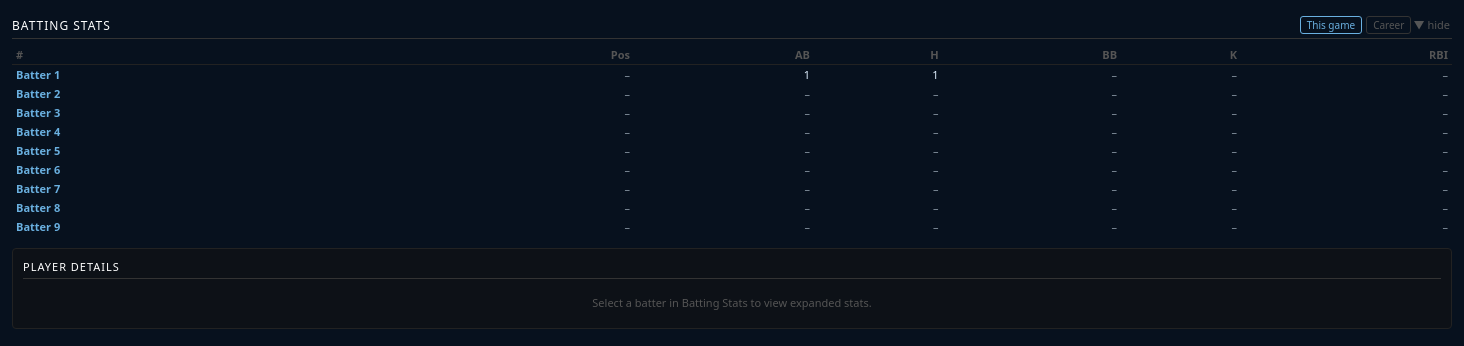
Test case: PlayerStatsPanel › collapses and hides the table when toggle is clicked
This screenshot has width=1464, height=346.
Click the button with aria-label "collapse batting stats" at (1432, 24), box [1411,17,1452,32]
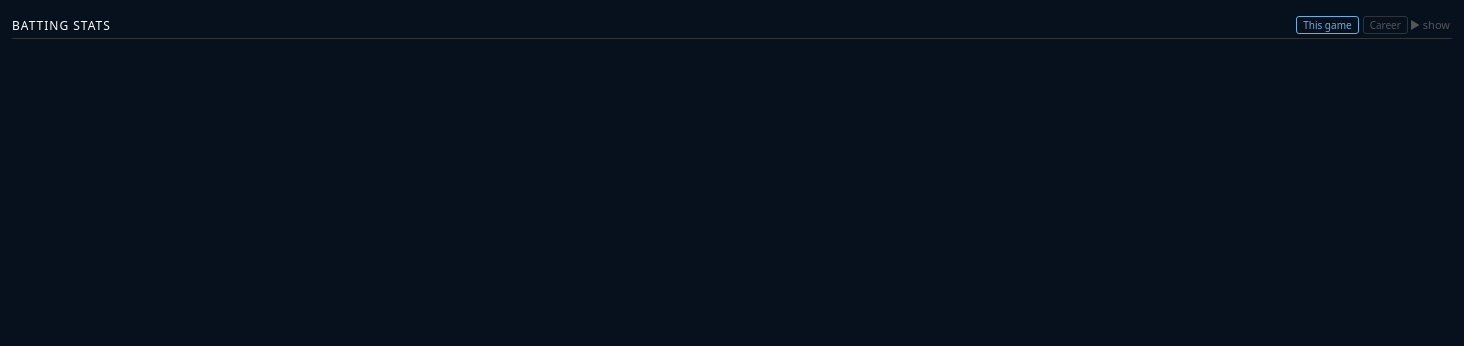
Expected: the table is gone
